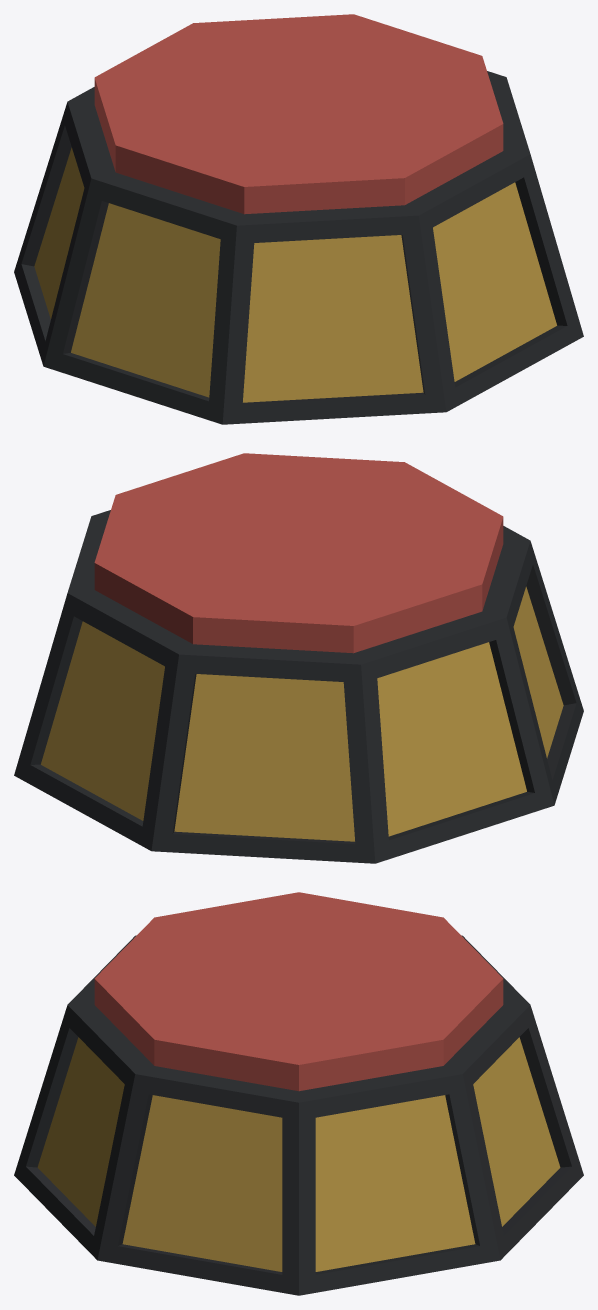
Rendered from platform.glb.
3 renders of one model, top to bottom at view 1: azimuth 30°, elevation 25°; view 2: azimuth 150°, elevation 25°; view 3: azimuth 270°, elevation 25°, orthographic. The views are drawn at different scales.
Visible parts, largest first — view 1: Cube; view 2: Cube; view 3: Cube.
Boxes of the visible parts, x1,y1,x2,y2 form: Cube: (14,14,583,424); Cube: (14,453,583,863); Cube: (14,892,583,1295).
Size of what is drawn, in the model's own units: 1.21 by 0.4613 by 1.21.
1 material, 1 textured.
